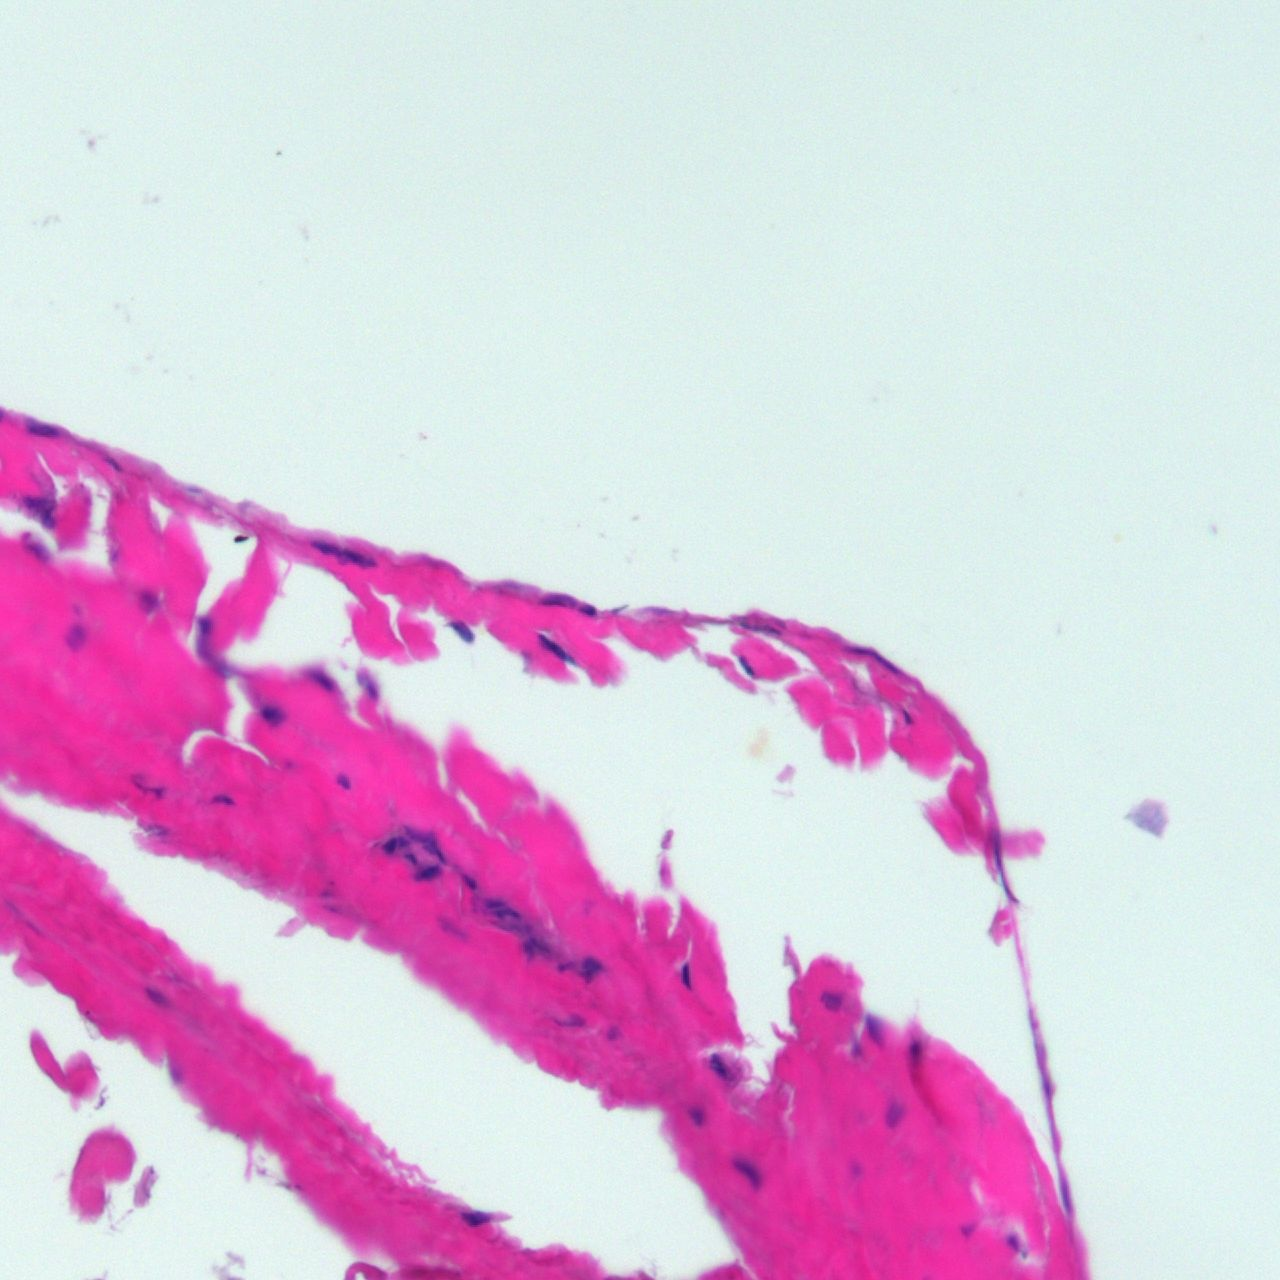dust: (232, 534, 250, 543)
nucleus-HE: (304, 533, 380, 577), (400, 813, 455, 867), (839, 638, 908, 676), (195, 614, 233, 677), (989, 829, 1015, 902), (533, 630, 578, 669), (729, 1152, 768, 1194), (432, 913, 470, 948), (303, 663, 342, 695), (143, 982, 175, 1015), (447, 614, 478, 646), (408, 858, 443, 886), (535, 590, 578, 611), (865, 1011, 886, 1053), (879, 1099, 907, 1128), (580, 954, 606, 984), (22, 418, 59, 438), (138, 585, 161, 617), (131, 778, 166, 799), (258, 701, 284, 727), (896, 702, 918, 731), (819, 989, 845, 1013), (64, 622, 85, 651), (21, 490, 43, 516), (735, 651, 756, 678), (552, 1011, 587, 1027), (458, 869, 479, 893), (710, 1053, 729, 1079), (528, 935, 550, 957), (460, 1211, 490, 1227), (908, 1037, 923, 1068), (207, 793, 238, 807), (686, 1104, 704, 1126), (168, 1061, 183, 1086), (42, 504, 56, 530), (680, 961, 693, 989), (847, 1040, 865, 1060), (364, 680, 380, 702), (1006, 1231, 1021, 1254), (957, 1220, 975, 1238), (335, 771, 351, 791), (579, 604, 600, 619), (605, 1023, 622, 1041), (848, 1160, 861, 1182), (380, 838, 396, 855), (403, 850, 418, 867), (497, 907, 520, 918), (521, 940, 532, 960), (485, 899, 504, 906), (397, 835, 406, 846)
